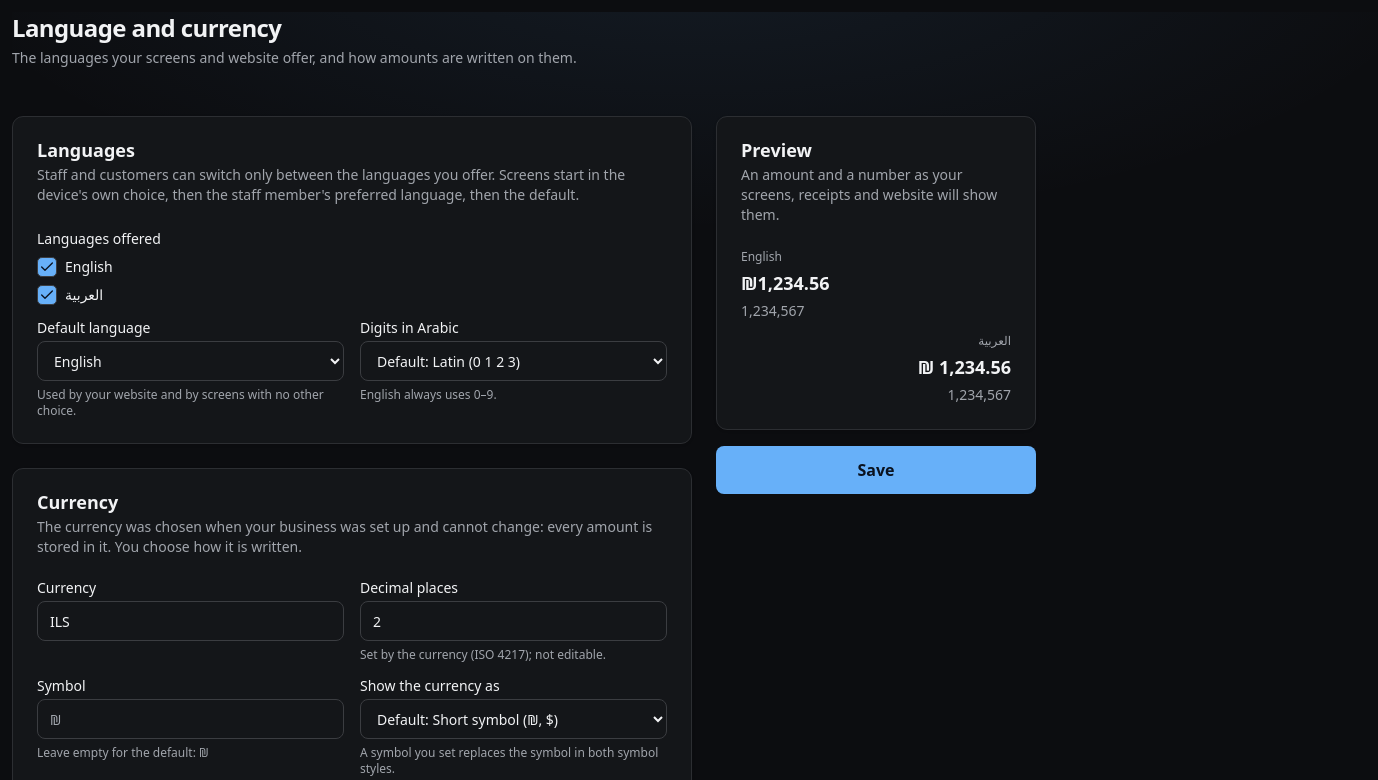
Test case: language and currency page (ADR 0020) › flags a symbol with digits before saving
The width and height of the screenshot is (1378, 780).
Type "5₪" into the field labelled "Symbol". click: (190, 719)
box: [37,699,344,739]
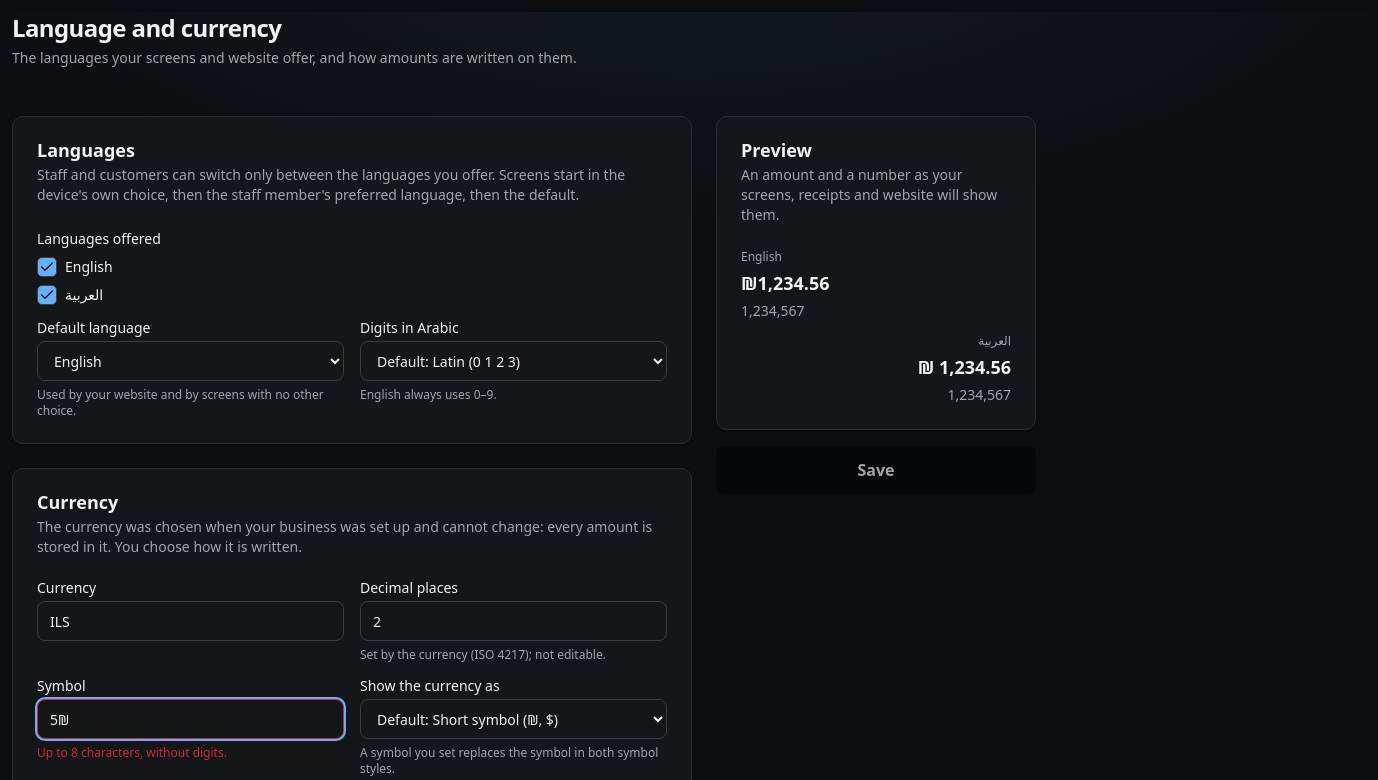
Check: the text "Up to 8 characters, without digits." is shown, box [37,744,227,761]
Check: the button "Save" is disabled, box [716,446,1036,494]
